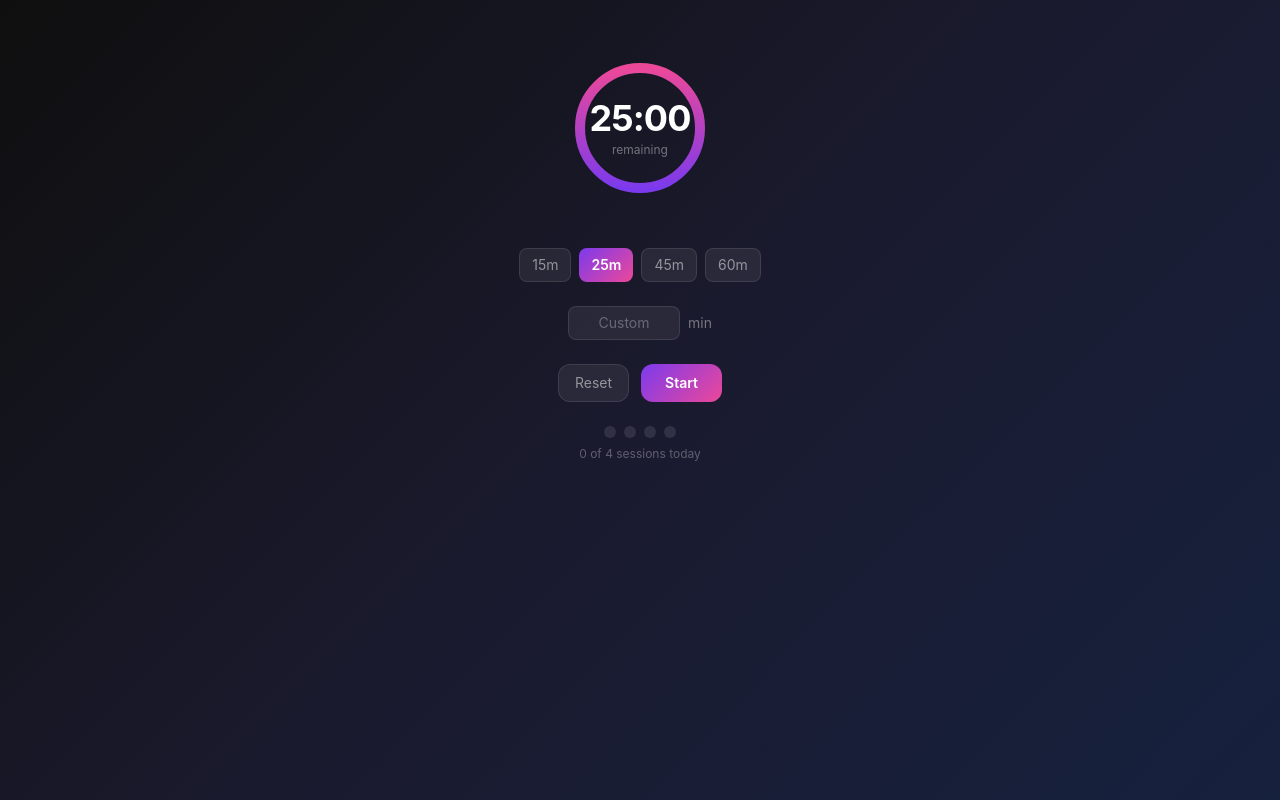
Test: FocusTimer › counts down after starting
This screenshot has width=1280, height=800.
Click the button "Start".
click(682, 383)  # box [641, 364, 722, 402]
Wait 1000 ms
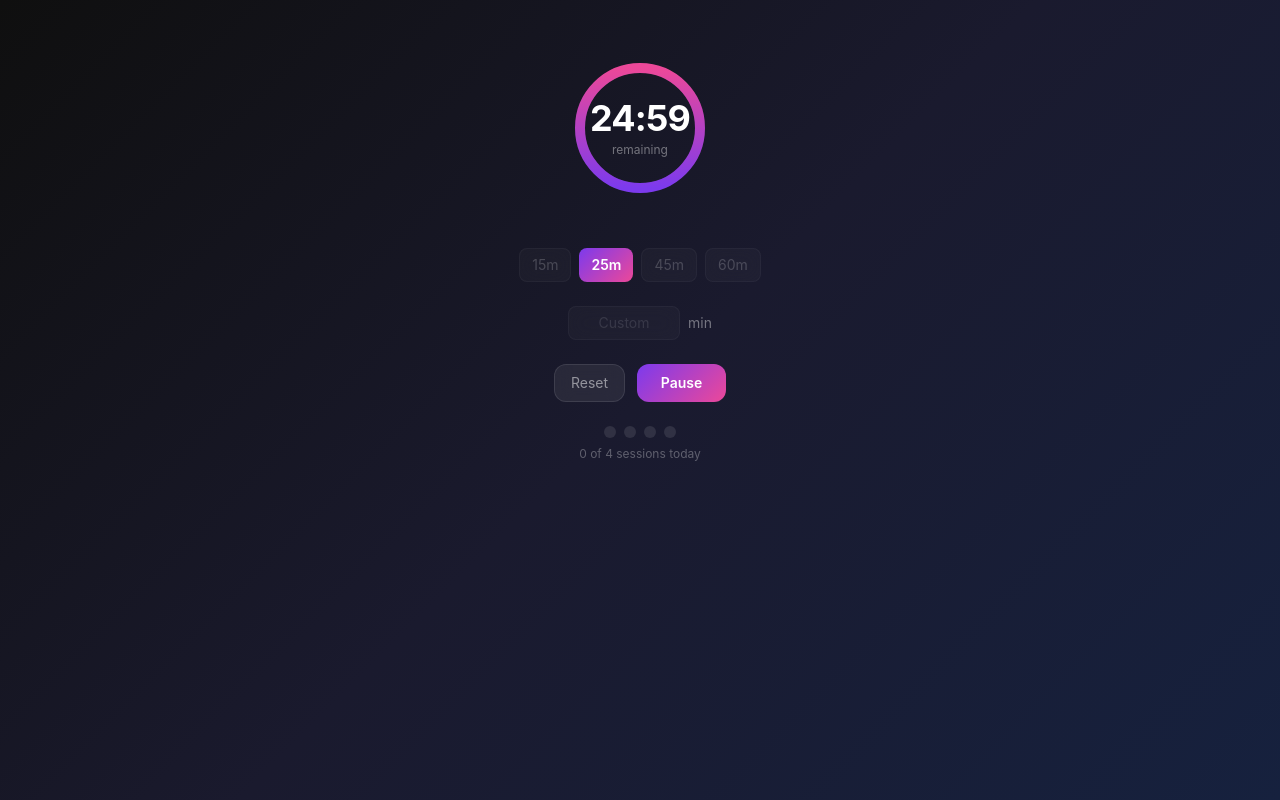
Expected: the text "24:59" is shown, [590, 98, 690, 138]
